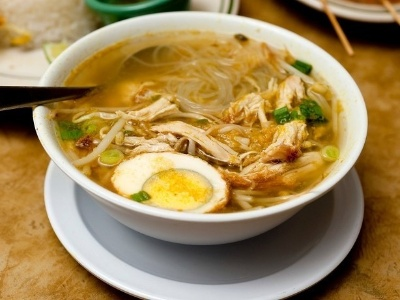soto: (73, 45, 327, 200)
